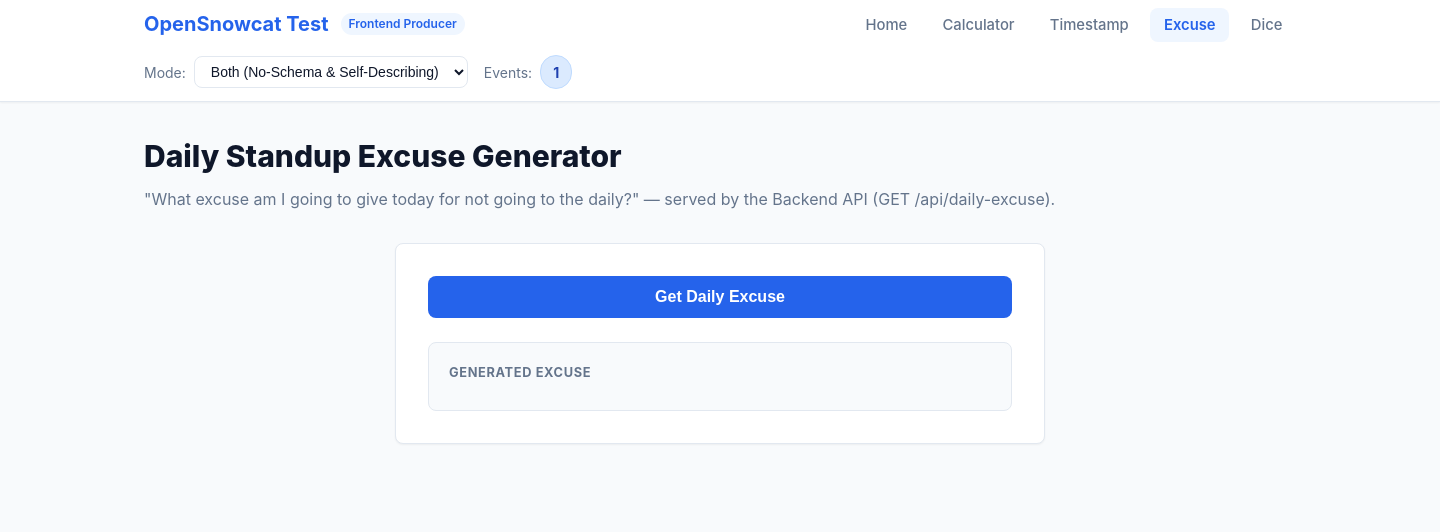
Network and API Error Resilience - End-to-End Integration › renders error alert when Backend API fails with network disconnection on /excuse
Check: the text with test id "frontend-events-counter" reads "1", box [553,64,559,81]
Click the button with test id "btn-generate-excuse" at (720, 297), box [428,276,1012,318]
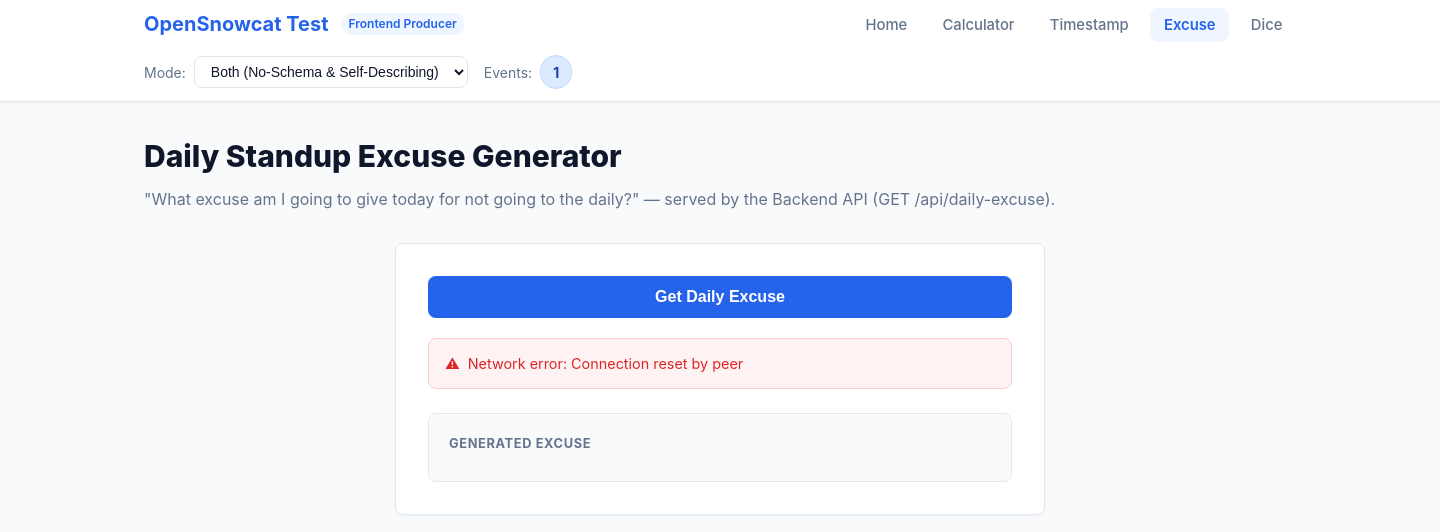
Check: the message "⚠ Network error: Connection reset by peer" is shown, box [428,338,1012,389]
Check: the message shows "Connection reset by peer", box [468,355,743,372]
